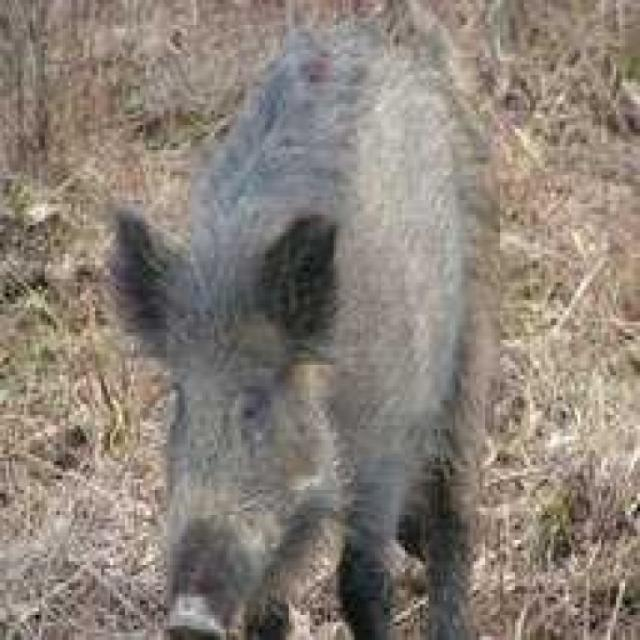pig: (79, 22, 586, 616)
